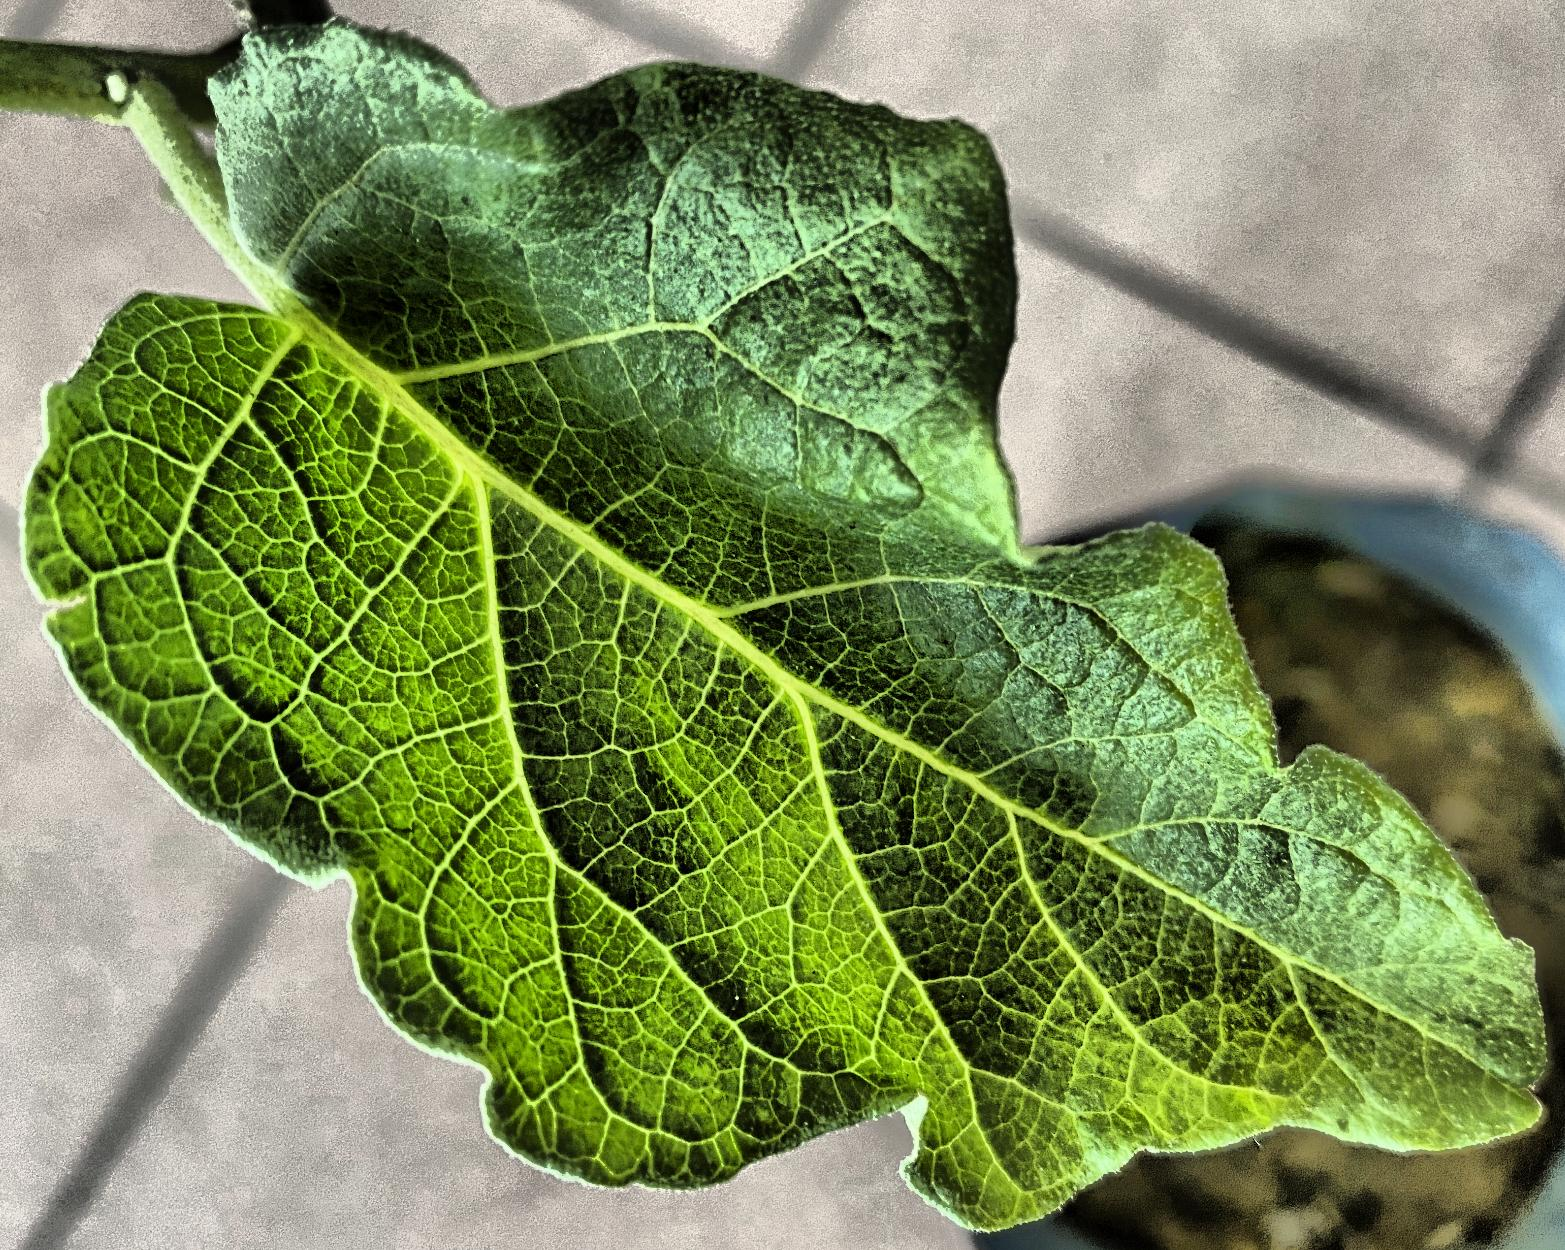HEALTHY: (1, 0, 1565, 1250)
